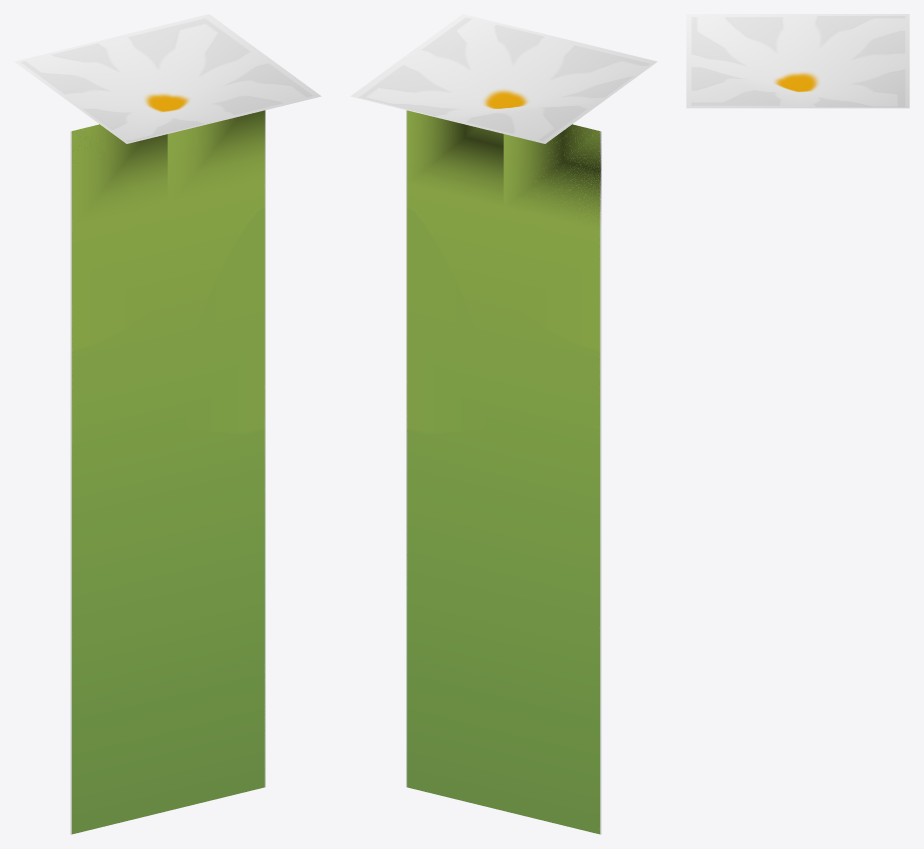
File: Flower_01.fbx
3 views of the same model, side by side, from view 1: azimuth 30°, elevation 25°; view 2: azimuth 150°, elevation 25°; view 3: azimuth 270°, elevation 25° (orthographic).
Parts seen in each view (by area): view 1: Flower_01; view 2: Flower_01; view 3: Flower_01.
Boxes of the visible parts, x1,y1,x2,y2 form: Flower_01: [14, 14, 321, 834]; Flower_01: [350, 14, 657, 834]; Flower_01: [686, 14, 909, 108].
Size of the model in its own units: 10.53 by 37.6 by 10.49.
